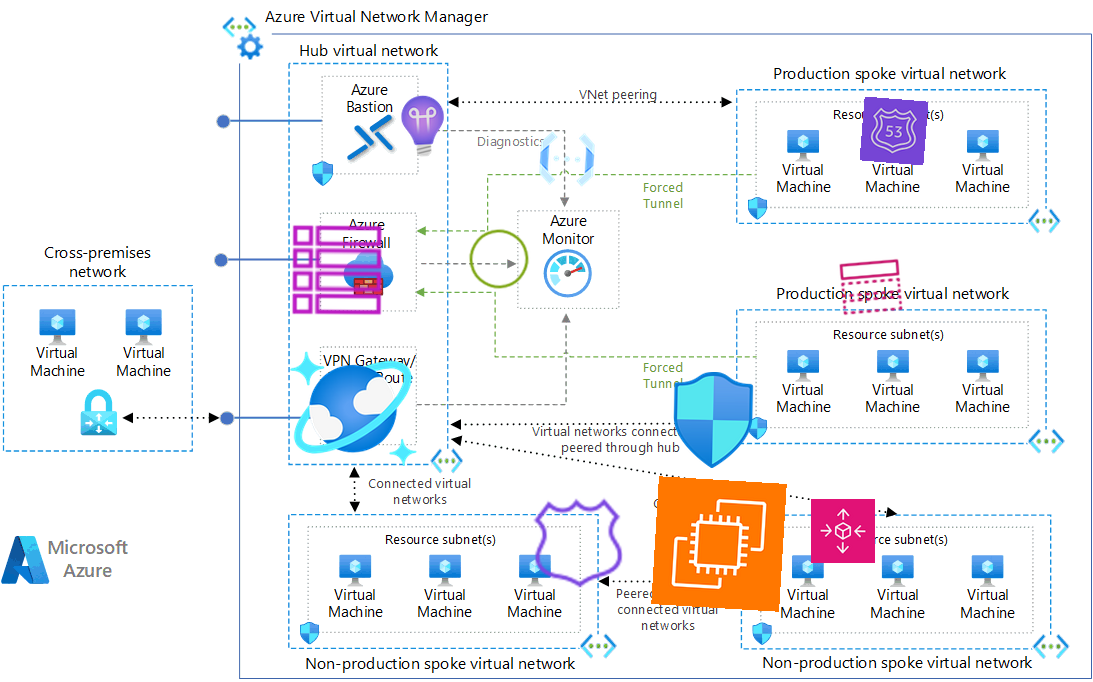aws_amazon_ec2: (651, 476, 787, 612)
aws_amazon_route_53: (859, 96, 929, 166)
aws_auto_scaling: (810, 498, 876, 564)
aws_dynamodb_table: (288, 221, 386, 319)
aws_route_53_hosted_zone: (528, 492, 630, 594)
aws_simple_notification_service_topic: (836, 252, 906, 322)
aws_simple_storage_service_object: (465, 225, 533, 293)
azure_application_insights: (389, 92, 457, 160)
azure_cosmos_db: (284, 340, 422, 478)
azure_network_security_groups: (663, 370, 763, 470)
gcp_cloud_functions: (533, 125, 601, 193)
